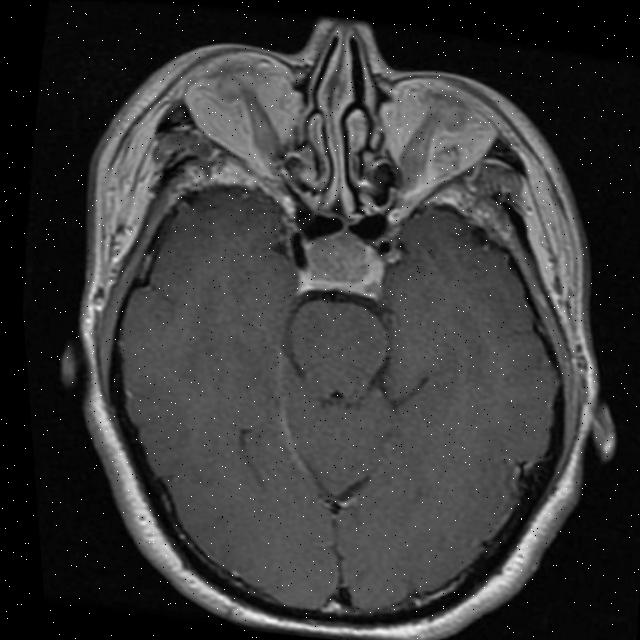Pituitary: (300, 224, 381, 288)
